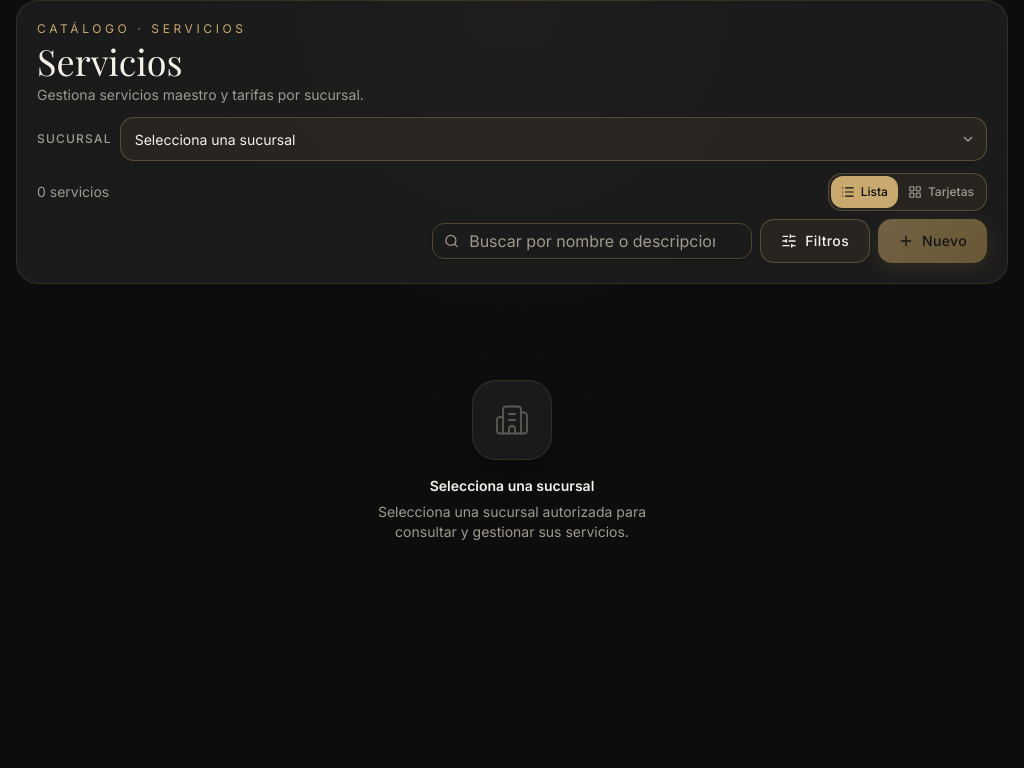
it: alcance y concurrencia de servicios administrativos › admin múltiple requiere sucursal, no ofrece Todas ni acciones globales
The width and height of the screenshot is (1024, 768).
Expected: the text "Selecciona una sucursal" is shown, [430,477,594,494]
Expected: the button "Nuevo" is disabled, [878,219,987,263]
Step 1. Select "MasterFade Centro" in the dropdown labelled "Sucursal" → [553, 139], box [120,117,987,161]
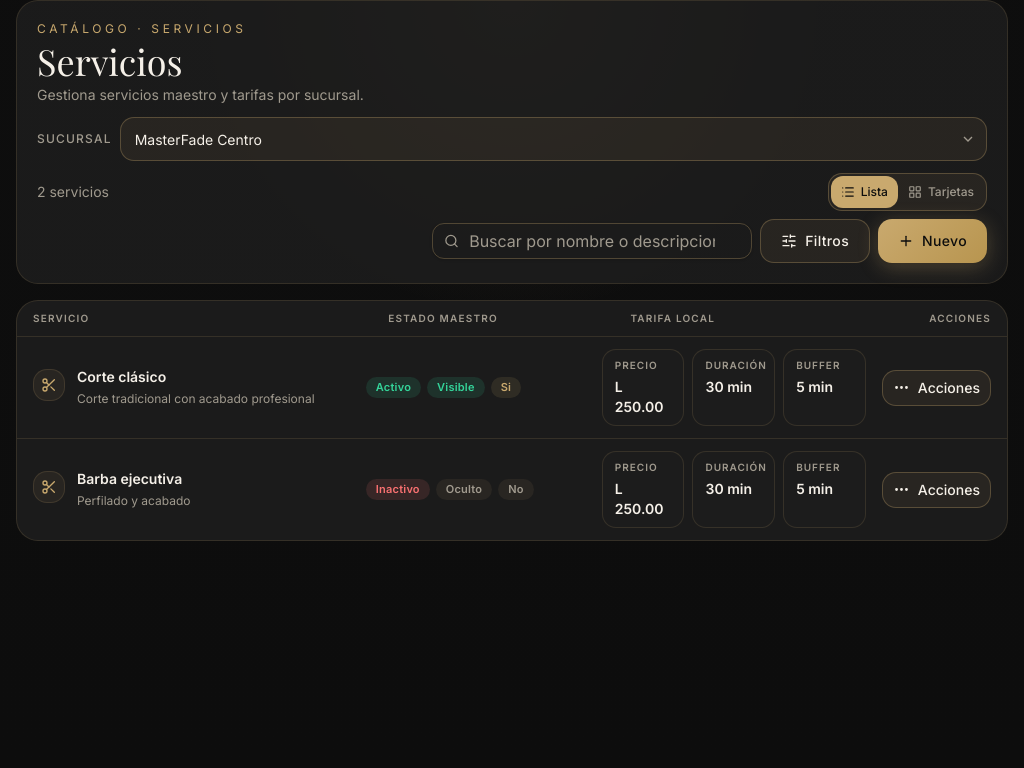
Expected: the heading "Corte clásico" is shown, [77,368,166,384]
Step 2. Select "Selecciona una sucursal" in the dropdown labelled "Sucursal" → [553, 139], box [120,117,987,161]
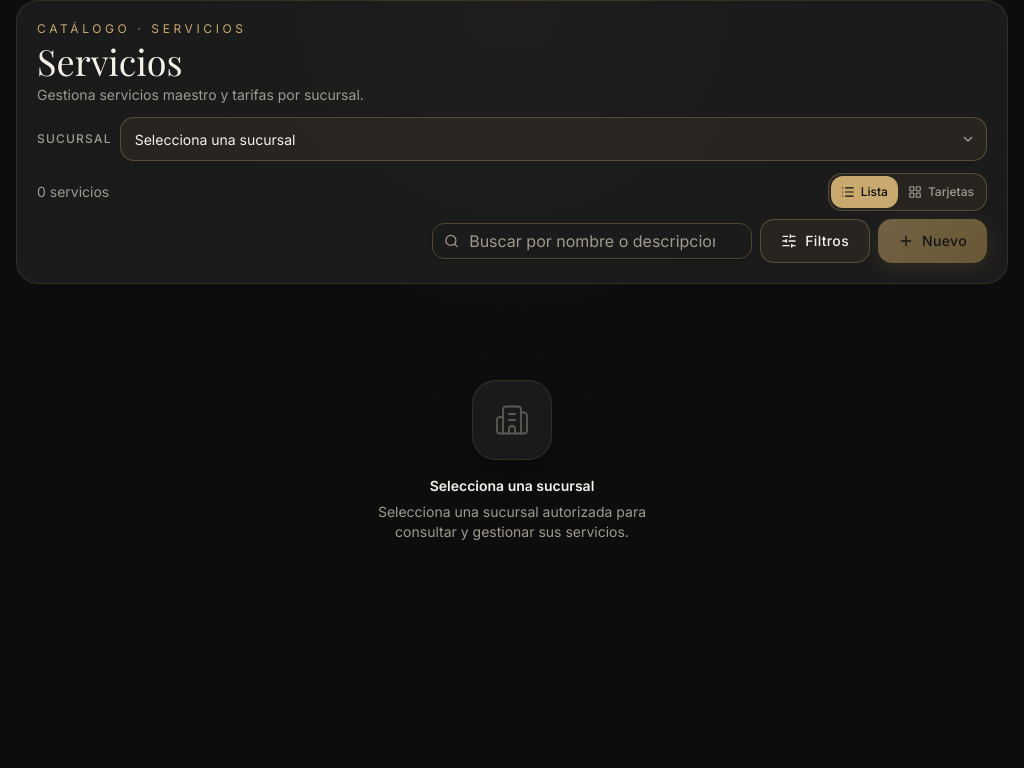
Expected: the heading "Corte clásico" is gone
